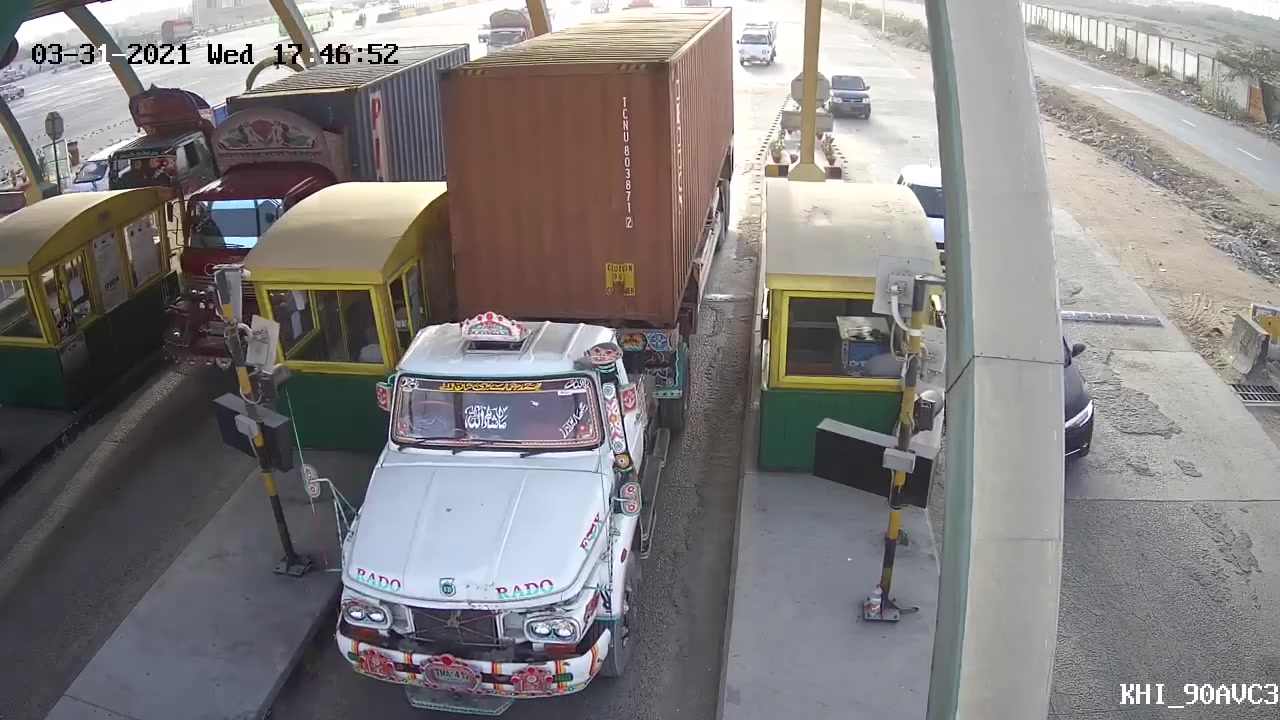F6: (319, 2, 752, 703)
